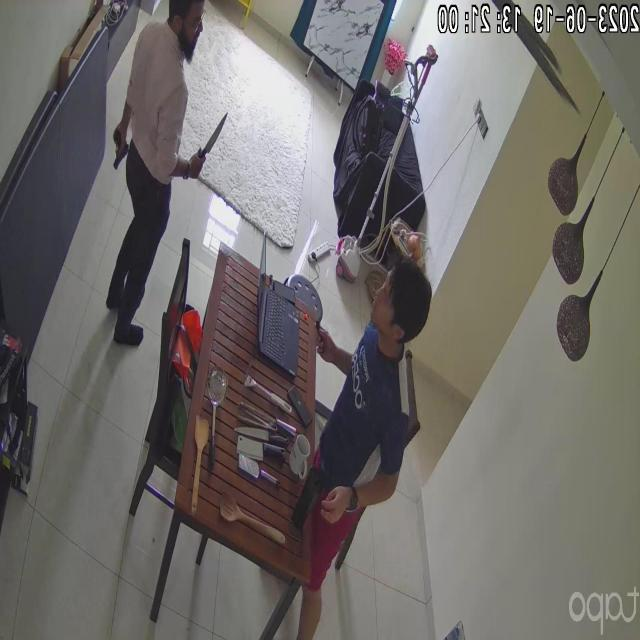Gun: (107, 128, 131, 170)
Knife: (202, 109, 236, 163)
